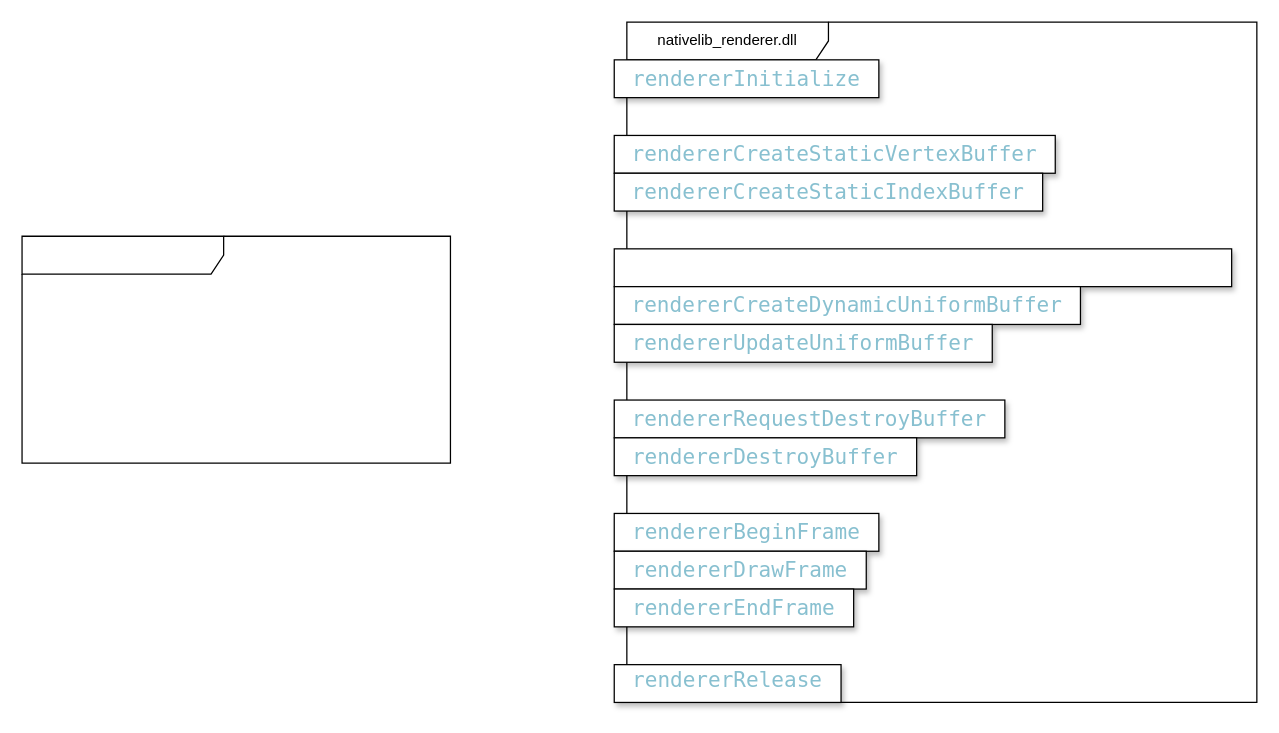
The diagram is 1279 pixels wide and 733 high, and some of its shapes have lost their labels. Each missing label, with the centre of its shape:
C#: [235,349]
rendererGetMinimalUniformBufferOffsetAlignment: [923,269]
